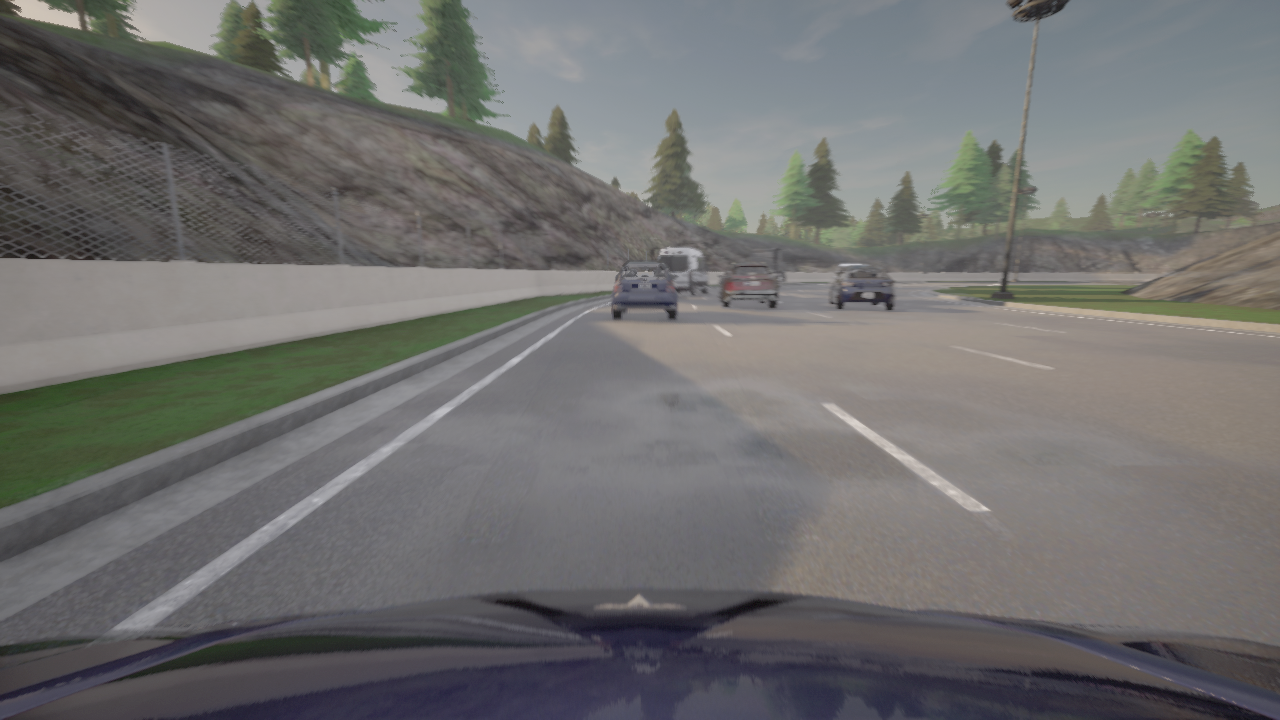cyclist: (0, 588, 1279, 719), (612, 260, 676, 319), (828, 265, 894, 310), (718, 261, 778, 308), (657, 247, 708, 295), (750, 247, 788, 286), (835, 263, 867, 277)
